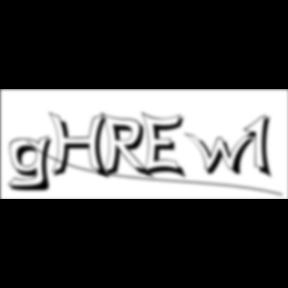1: (244, 114, 278, 182)
E: (142, 110, 190, 182)
H: (48, 112, 114, 182)
R: (101, 112, 158, 182)
g: (8, 134, 60, 194)
w: (185, 132, 263, 178)
